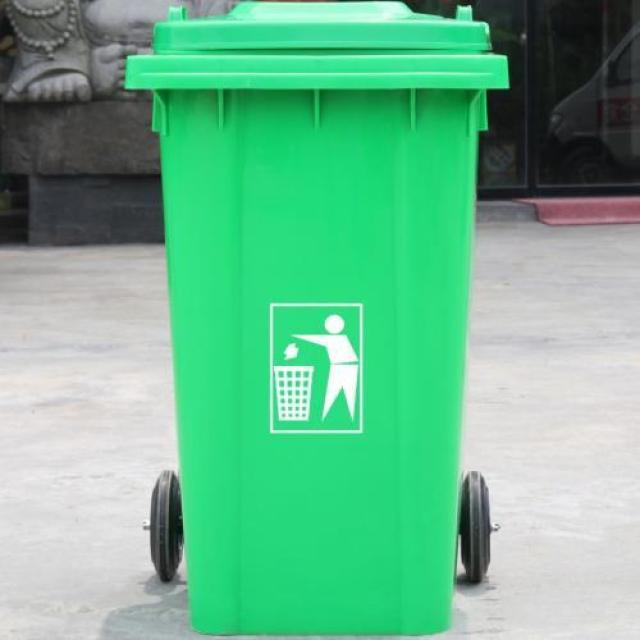garbage_bin: (120, 0, 507, 634)
